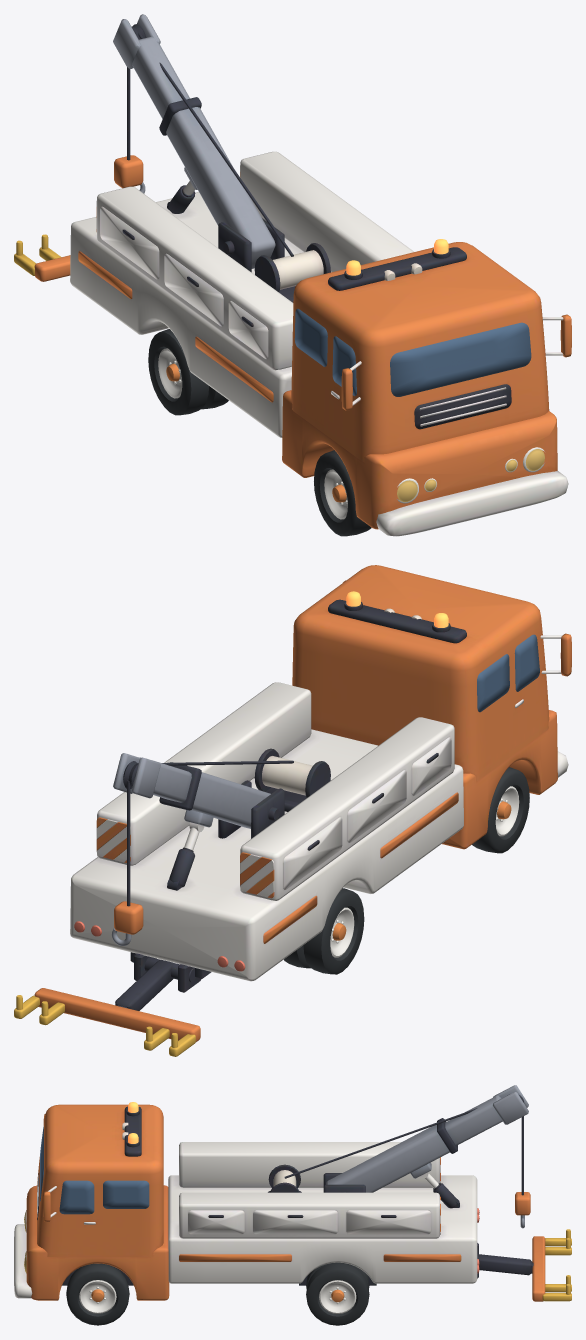
File: tow-truck.glb
3 renders of one model, top to bottom at view 1: azimuth 30°, elevation 25°; view 2: azimuth 150°, elevation 25°; view 3: azimuth 270°, elevation 25°, orthographic. The views are drawn at different scales.
Parts seen in each view (by area): view 1: tow-truck_body, tow-truck_boom, tow-truck_windows, tow-truck_wheel_rr, tow-truck_wheel_fr, tow-truck_underlift, tow-truck_hook, tow-truck_headlights; view 2: tow-truck_body, tow-truck_boom, tow-truck_underlift, tow-truck_wheel_rr, tow-truck_wheel_fr, tow-truck_windows, tow-truck_hook; view 3: tow-truck_body, tow-truck_boom, tow-truck_wheel_rl, tow-truck_wheel_fl, tow-truck_underlift, tow-truck_windows, tow-truck_hook.
Boxes of the visible parts, box(x1,y1,x2,y2) form: tow-truck_body: box(70, 151, 571, 536); tow-truck_boom: box(113, 14, 293, 268); tow-truck_windows: box(294, 308, 531, 396); tow-truck_wheel_rr: box(148, 329, 228, 415); tow-truck_wheel_fr: box(314, 450, 371, 536); tow-truck_underlift: box(14, 234, 70, 281); tow-truck_hook: box(114, 67, 145, 193); tow-truck_headlights: box(397, 447, 544, 503); tow-truck_body: box(70, 565, 571, 992); tow-truck_boom: box(113, 753, 293, 850); tow-truck_underlift: box(14, 957, 200, 1056); tow-truck_wheel_rr: box(284, 888, 364, 974); tow-truck_wheel_fr: box(472, 767, 529, 853); tow-truck_windows: box(477, 634, 539, 712); tow-truck_hook: box(111, 780, 143, 945); tow-truck_body: box(14, 1104, 478, 1300); tow-truck_boom: box(284, 1085, 528, 1192); tow-truck_wheel_rl: box(306, 1262, 369, 1325); tow-truck_wheel_fl: box(66, 1263, 129, 1325); tow-truck_underlift: box(477, 1229, 571, 1301); tow-truck_windows: box(40, 1126, 149, 1214); tow-truck_hook: box(515, 1116, 530, 1228).
Size of the model in its own units: 2.69 by 3.24 by 7.91.
Materials: 6 (6 with a texture image).
